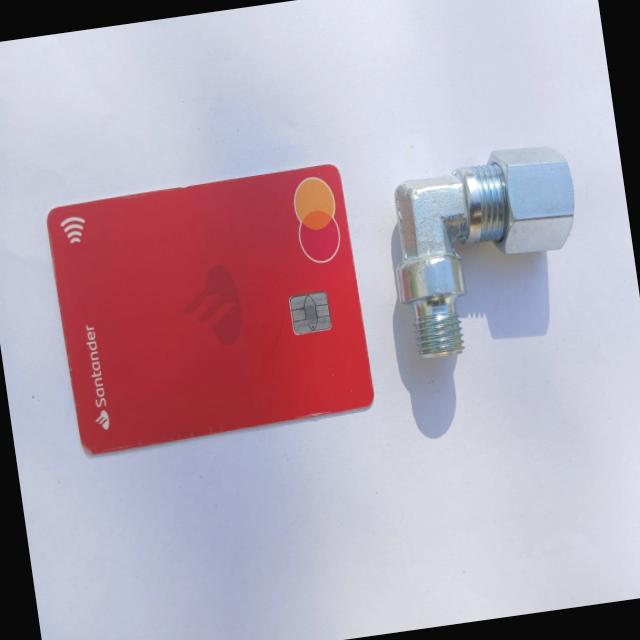cartao: (46, 162, 377, 454)
rosca_externa: (382, 139, 594, 361)
